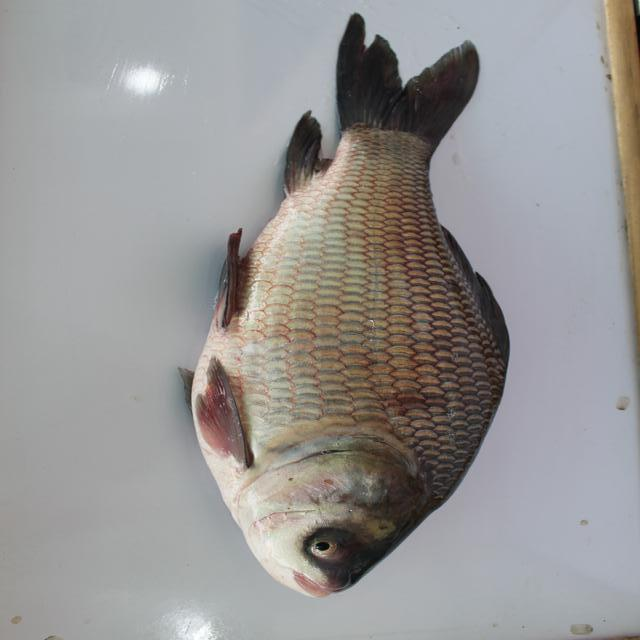Catla: (179, 11, 512, 599)
